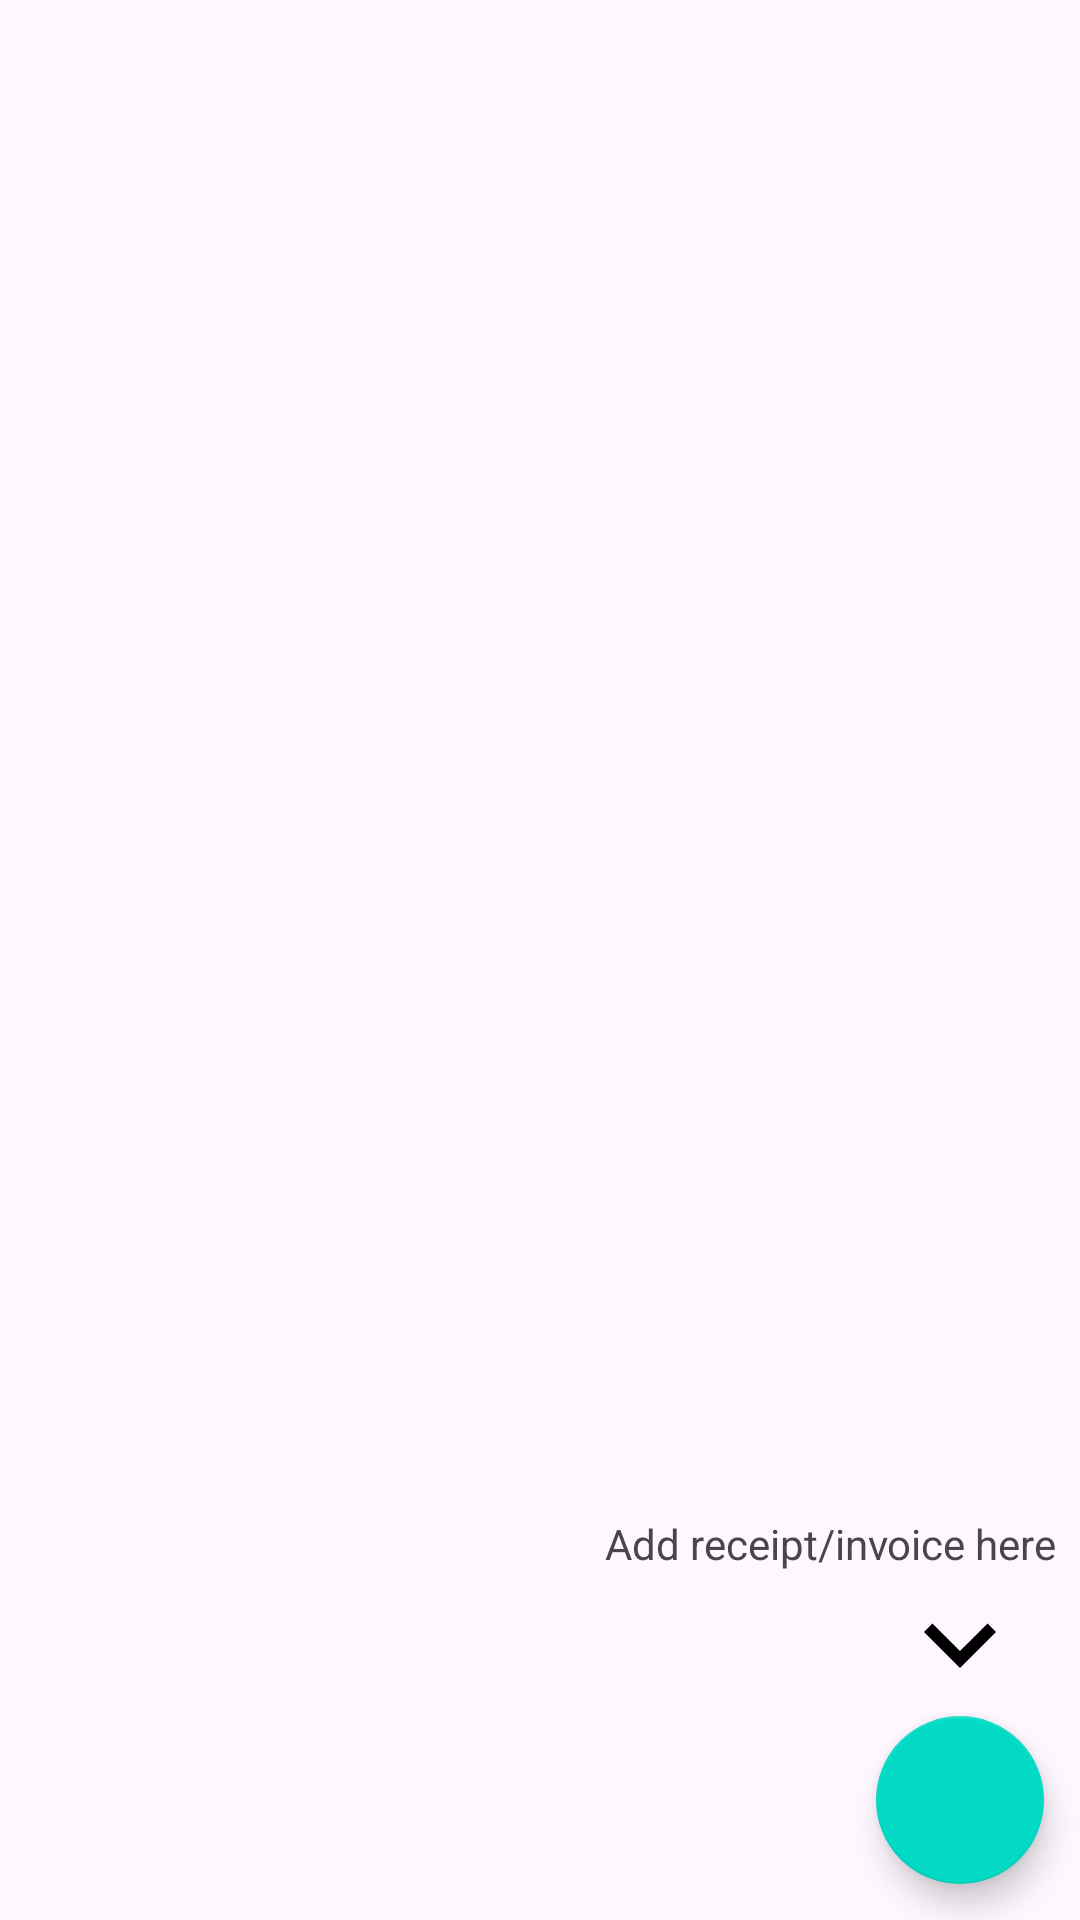

Icons on this 1080×1920 Android screen, each with the point to tap as [x,y]:
arrow down: [960,1645]
